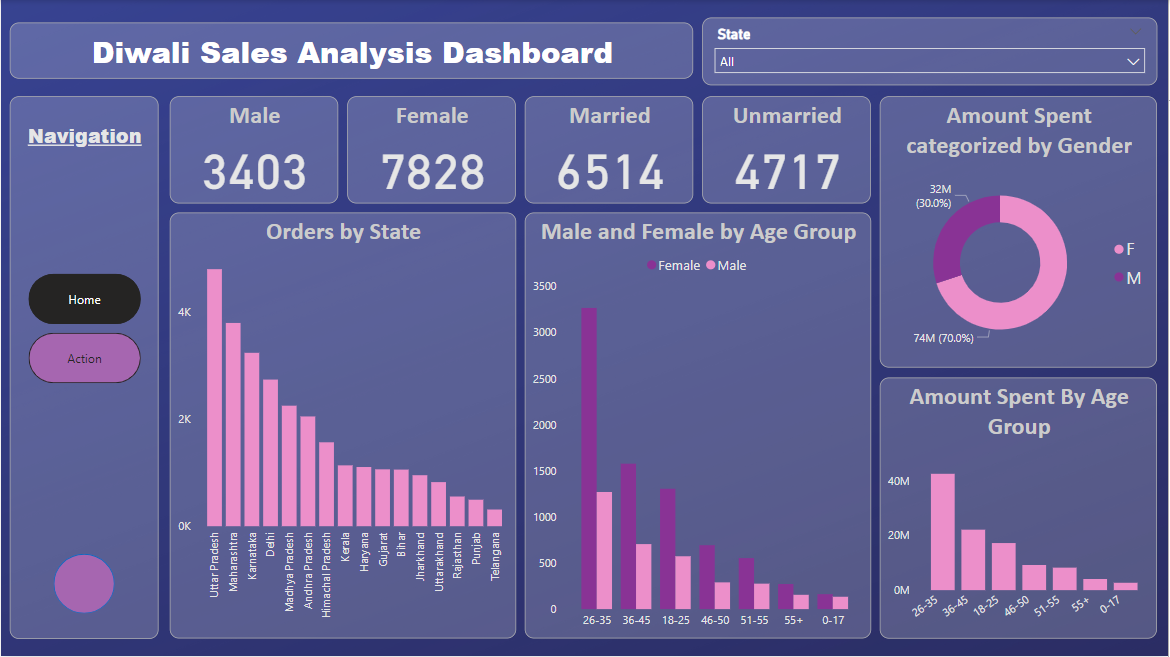

The dashboard page shown, as its layout file describes it:
{"tool":"powerbi","page":{"name":"Home","canvas":[1280,720],"ordinal":0},"visuals":[{"type":"textbox","box":[9.6,24.7,750,61.7],"z":0},{"type":"textbox","box":[9.6,105.6,163.2,595],"z":1000},{"type":"pageNavigator","box":[30.2,300.3,123.4,120.7],"z":2000},{"type":"shape","box":[57.6,607.4,67.2,65.8],"z":3000},{"type":"textbox","box":[19.2,128.9,145.3,41.1],"z":4000},{"type":"card","title":"Male","fields":{"Values":["All measures.Male"]},"box":[185.1,105.6,185.1,117.9],"z":5000},{"type":"card","title":"Female","fields":{"Values":["All measures.Female"]},"box":[379.8,105.6,185.1,117.9],"z":6000},{"type":"card","title":"Unmarried","fields":{"Values":["All measures.Unmarried"]},"box":[769.2,105.6,185.1,117.9],"z":7000},{"type":"card","title":"Married","fields":{"Values":["All measures.Married"]},"box":[574.5,105.6,185.1,117.9],"z":8000},{"type":"donutChart","title":"Amount Spent categorized by Gender","fields":{"Category":["Diwali Sales Data 1.Gender"],"Y":["Sum(Diwali Sales Data 1.Amount)"]},"box":[963.8,105.6,304.4,297.5],"z":9000},{"type":"clusteredColumnChart","title":"Male and Female  by Age Group","fields":{"Category":["Diwali Sales Data 1.Age Group"],"Y":["All measures.Female","All measures.Male"]},"box":[574.5,233.1,379.8,467.5],"z":10000},{"type":"columnChart","title":"Amount Spent By Age Group","fields":{"Category":["Diwali Sales Data 1.Age Group"],"Y":["Sum(Diwali Sales Data 1.Amount)"]},"box":[963.8,414.1,304.4,286.5],"z":11000},{"type":"columnChart","title":"Orders by State","fields":{"Category":["Diwali Sales Data 1.State"],"Y":["Sum(Diwali Sales Data 1.Orders)"]},"box":[185.1,233.1,379.8,467.5],"z":12000},{"type":"slicer","fields":{"Values":["Diwali Sales Data 1.State"]},"box":[769.2,19.2,499.1,74],"z":13000}]}

Visuals, with their boxes in screenshot pixels (x1, y1, x2, y2), scaled from the page's 1280x720 canvas onto the 1170x657 screenshot:
textbox: detection(9, 23, 694, 79)
textbox: detection(9, 96, 158, 639)
pageNavigator: detection(28, 274, 140, 384)
shape: detection(53, 554, 114, 614)
textbox: detection(18, 118, 150, 155)
"Male" card: detection(169, 96, 338, 204)
"Female" card: detection(347, 96, 516, 204)
"Unmarried" card: detection(703, 96, 872, 204)
"Married" card: detection(525, 96, 694, 204)
"Amount Spent categorized by Gender" donutChart: detection(881, 96, 1159, 368)
"Male and Female  by Age Group" clusteredColumnChart: detection(525, 213, 872, 639)
"Amount Spent By Age Group" columnChart: detection(881, 378, 1159, 639)
"Orders by State" columnChart: detection(169, 213, 516, 639)
slicer - Diwali Sales Data 1.State: detection(703, 18, 1159, 85)
